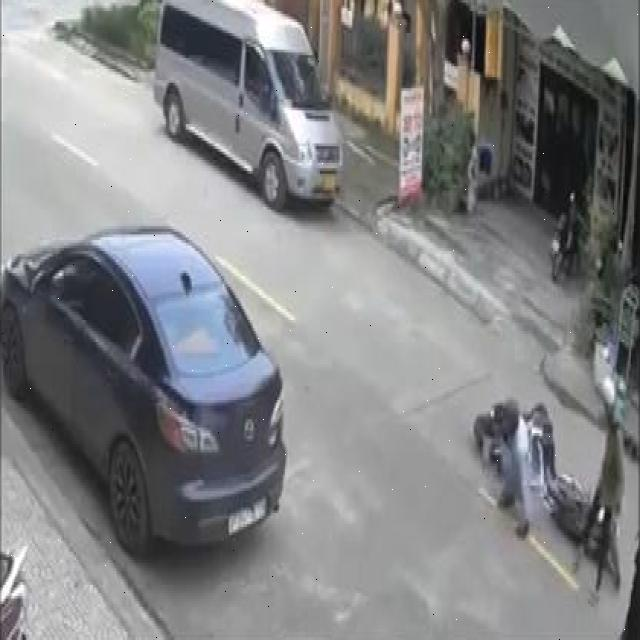accident: (469, 350, 627, 604)
